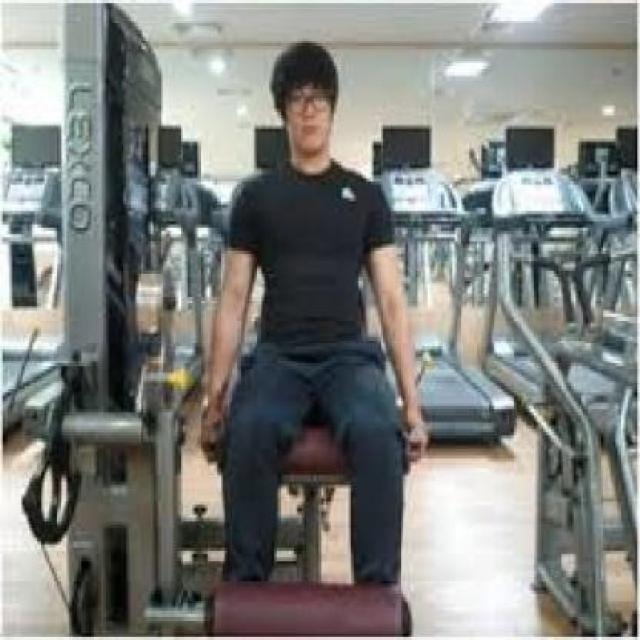leg extension: (17, 0, 466, 640)
